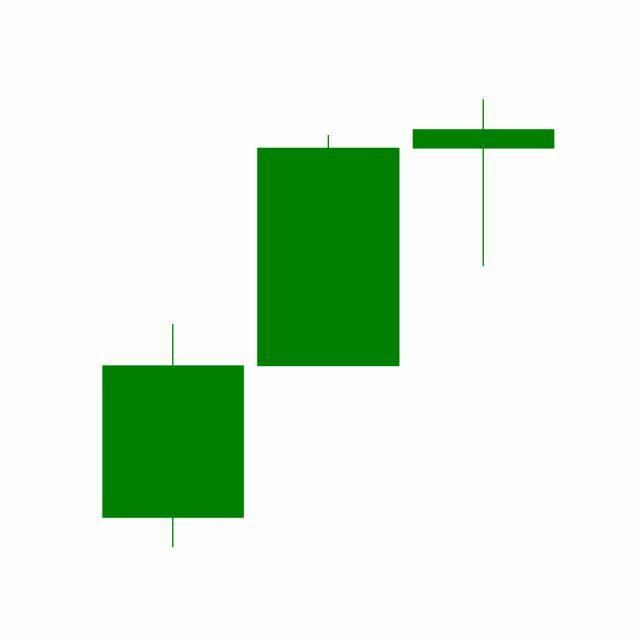Marubozu: (250, 133, 407, 370)
